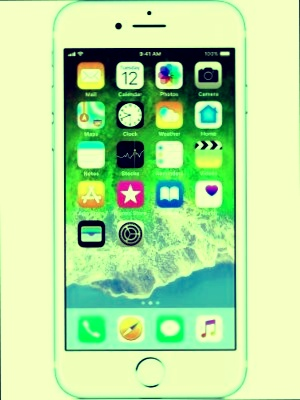iphone: (51, 1, 248, 399)
